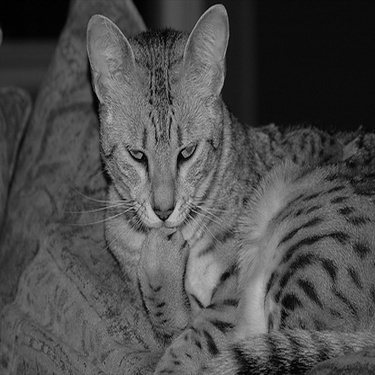cat: (87, 3, 371, 369)
